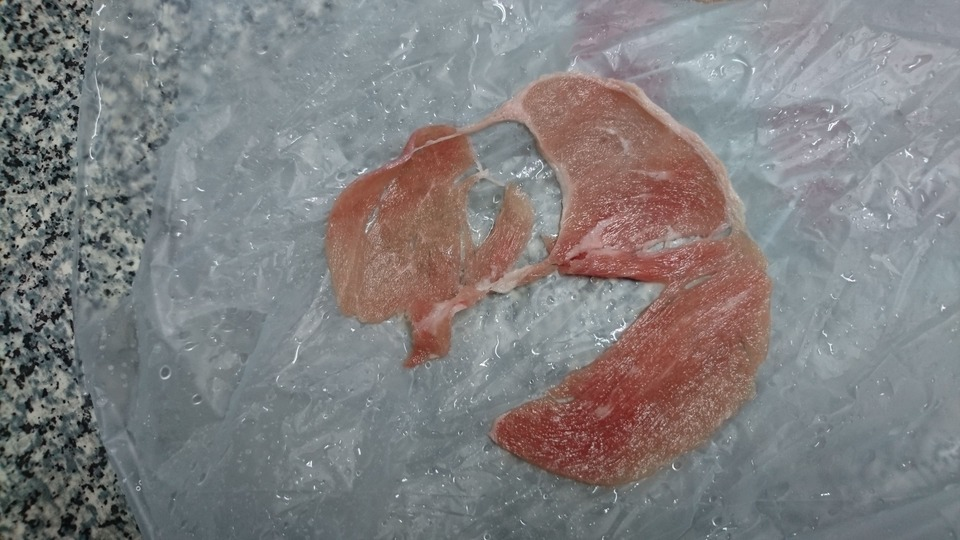restructured meat: (334, 93, 772, 482)
